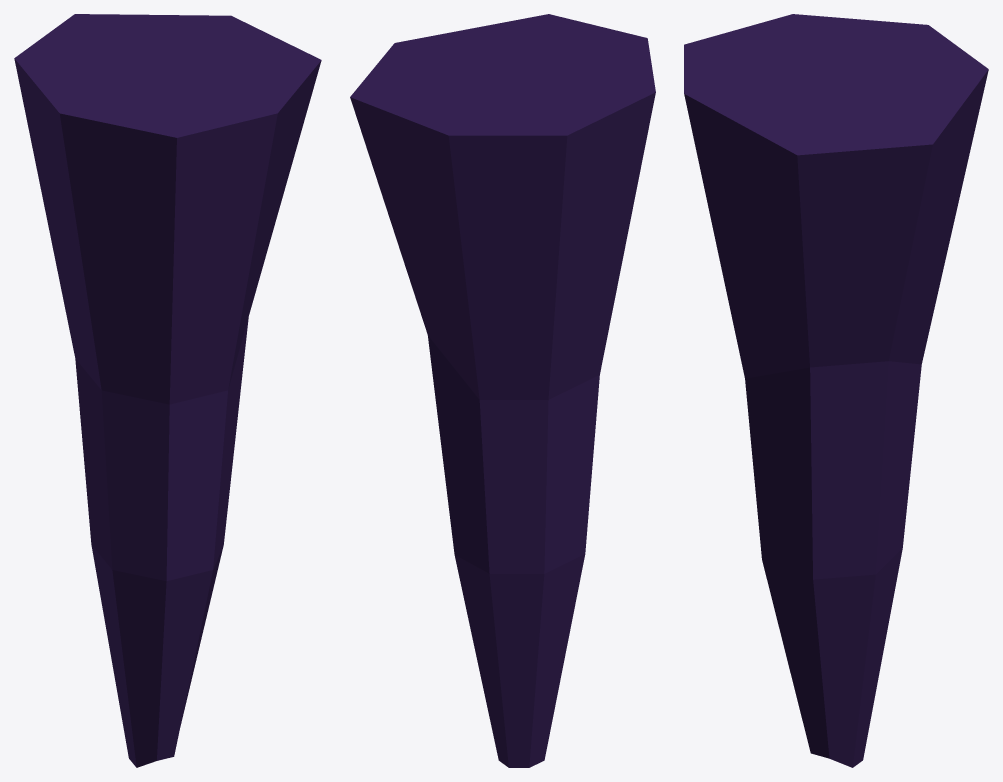
The model's file is stalactite_004_grp.fbx.
The picture shows the model from 3 angles, left to right: view 1: azimuth 30°, elevation 25°; view 2: azimuth 150°, elevation 25°; view 3: azimuth 270°, elevation 25°; orthographic projection.
Parts seen in each view (by area): view 1: stalactite_004_grp; view 2: stalactite_004_grp; view 3: stalactite_004_grp.
Boxes of the visible parts, x1,y1,x2,y2 form: stalactite_004_grp: [14, 14, 321, 767]; stalactite_004_grp: [350, 14, 655, 767]; stalactite_004_grp: [684, 14, 988, 767].
Size of the model in its own units: 200 by 500 by 200.
